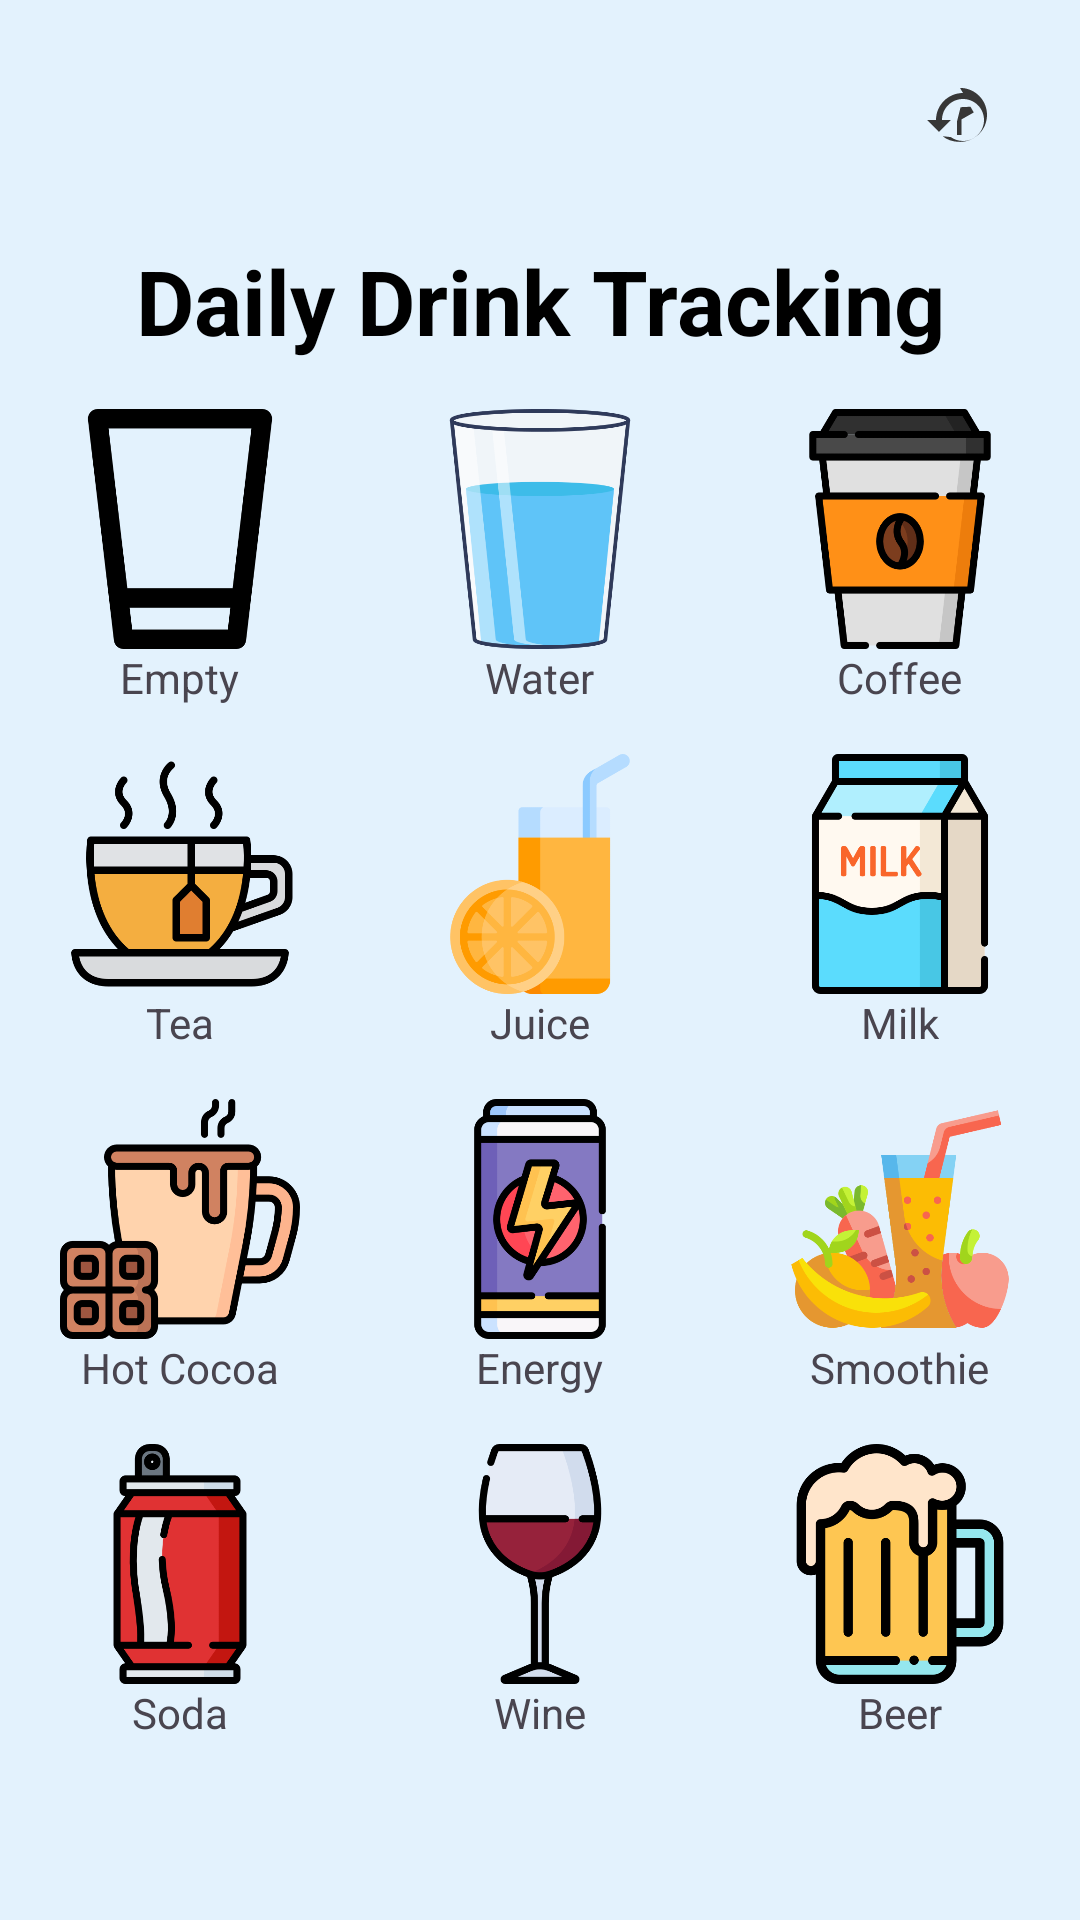

Icon bounding boxes for this 1080px x 1920px phone screenshot, format (x1, y1, x2, y2):
history: (927, 88, 987, 142)
